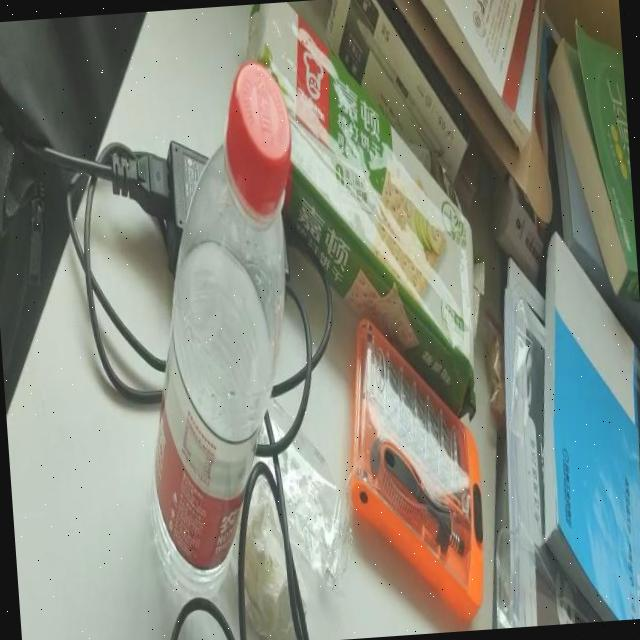bottle: (121, 58, 322, 600)
cap: (212, 52, 298, 212)
label: (145, 338, 267, 580)
